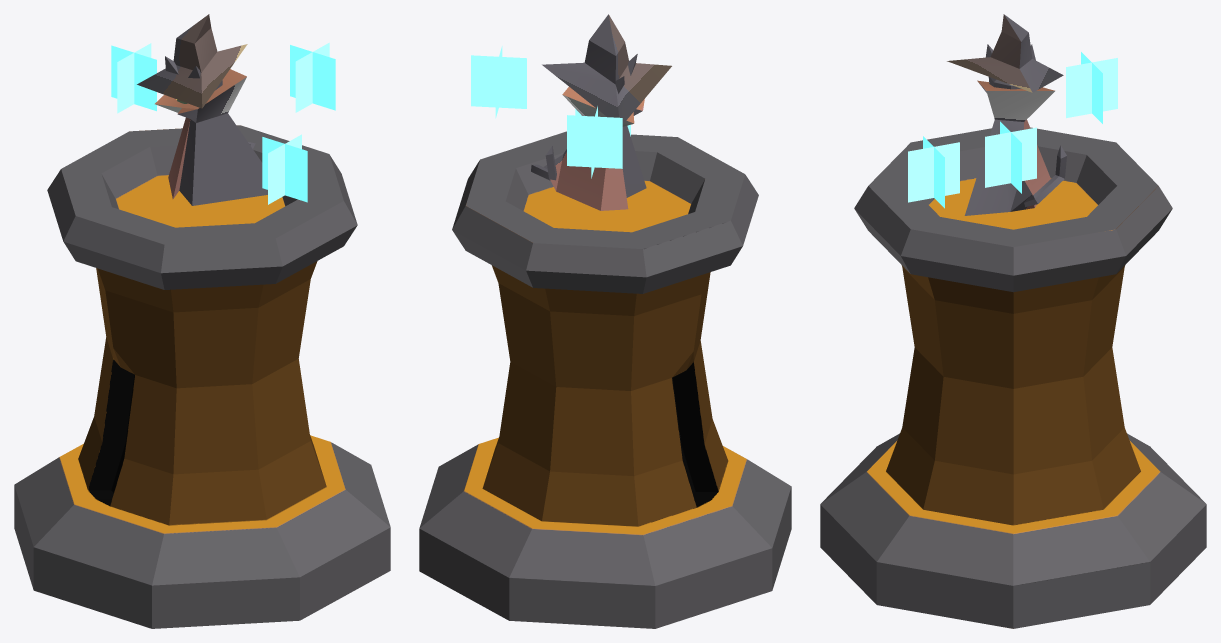
Rendered from Mage Tower Lvl 1.fbx.
The picture shows the model from 3 angles, left to right: view 1: azimuth 30°, elevation 25°; view 2: azimuth 150°, elevation 25°; view 3: azimuth 270°, elevation 25°; orthographic projection.
Visible parts, largest first — view 1: Torre de Magos, skin0, flamesprite_001_2; view 2: Torre de Magos, skin0, flamesprite_001_2; view 3: Torre de Magos, skin0, flamesprite_001_2.
Boxes of the visible parts, x1=… form: Torre de Magos: x1=14, y1=125, x2=390, y2=628; skin0: x1=137, y1=14, x2=267, y2=205; flamesprite_001_2: x1=111, y1=42, x2=335, y2=204; Torre de Magos: x1=419, y1=131, x2=791, y2=628; skin0: x1=531, y1=14, x2=671, y2=210; flamesprite_001_2: x1=471, y1=46, x2=630, y2=178; Torre de Magos: x1=820, y1=127, x2=1206, y2=628; skin0: x1=947, y1=14, x2=1066, y2=215; flamesprite_001_2: x1=908, y1=52, x2=1117, y2=208.
Size of the model in its own units: 200 by 305 by 200.
